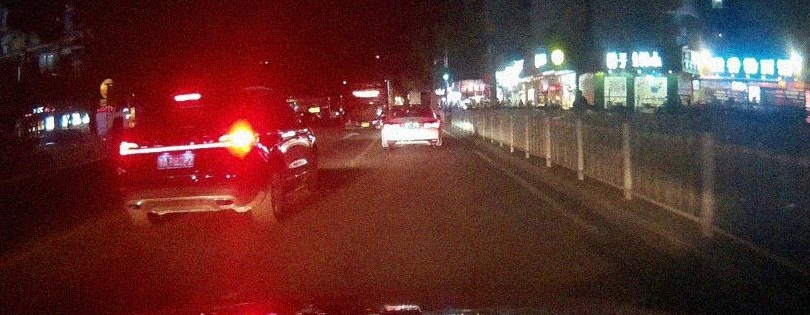L_light: (119, 141, 162, 156), (383, 120, 400, 125)
R_light: (216, 131, 260, 149), (418, 118, 439, 125)
T_light: (174, 93, 202, 100), (405, 106, 416, 108)
night-no: (381, 105, 440, 152)
night-right: (117, 86, 271, 227)
